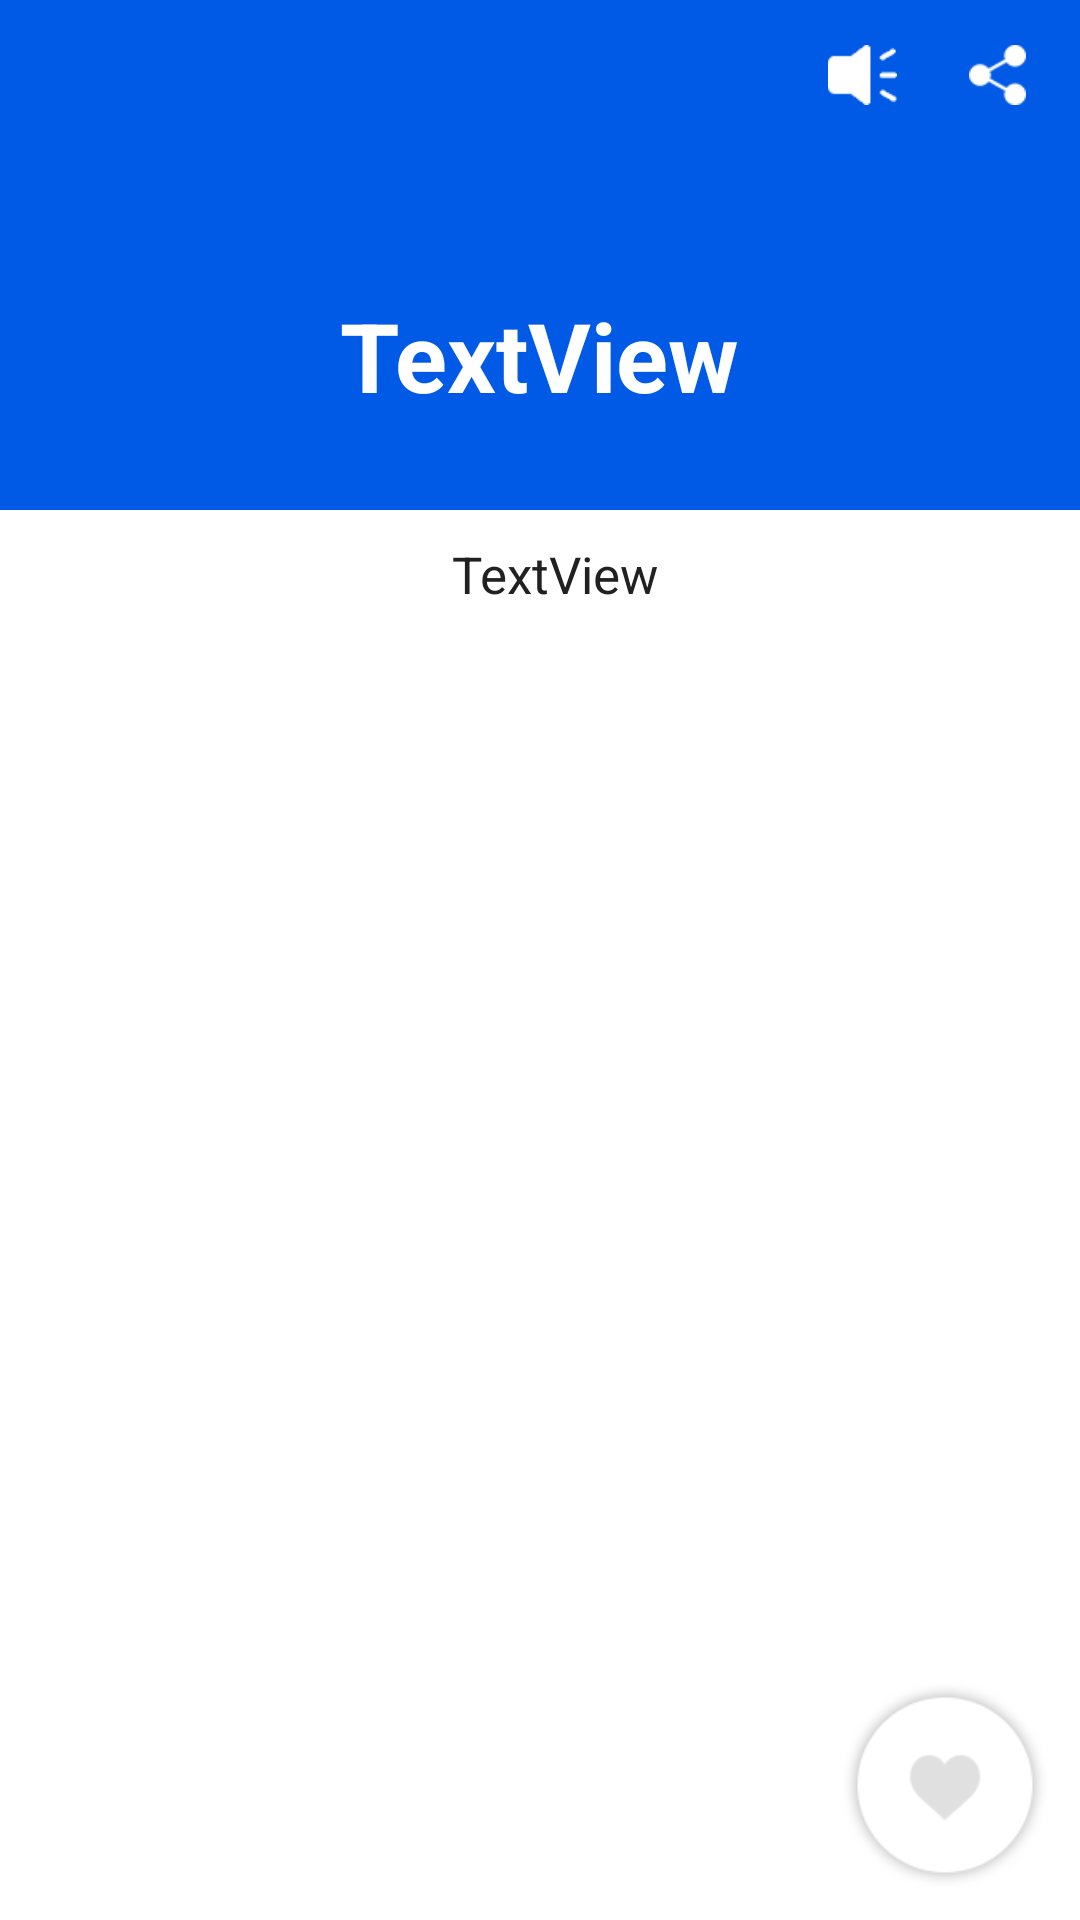

Named icons in this screenshot (1080w x 1920h) and their centers, (x=x, y=y):
share: (x=997, y=75)
speakerword: (x=862, y=75)
un fav: (x=945, y=1785)
